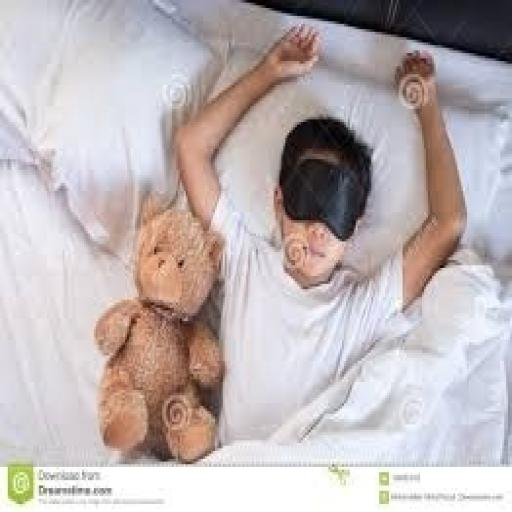sleeping: (170, 22, 469, 448)
